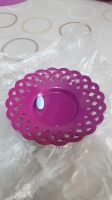Apranax: (35, 93, 45, 112)
